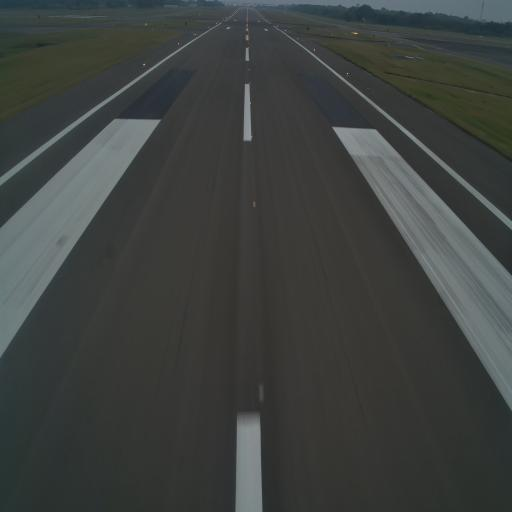on: (257, 380, 267, 404), (252, 199, 257, 209), (142, 62, 148, 67), (345, 71, 350, 77), (250, 133, 254, 140), (248, 81, 252, 86), (248, 66, 251, 72), (177, 41, 180, 46), (250, 100, 252, 106), (313, 48, 316, 52), (248, 58, 250, 62)
